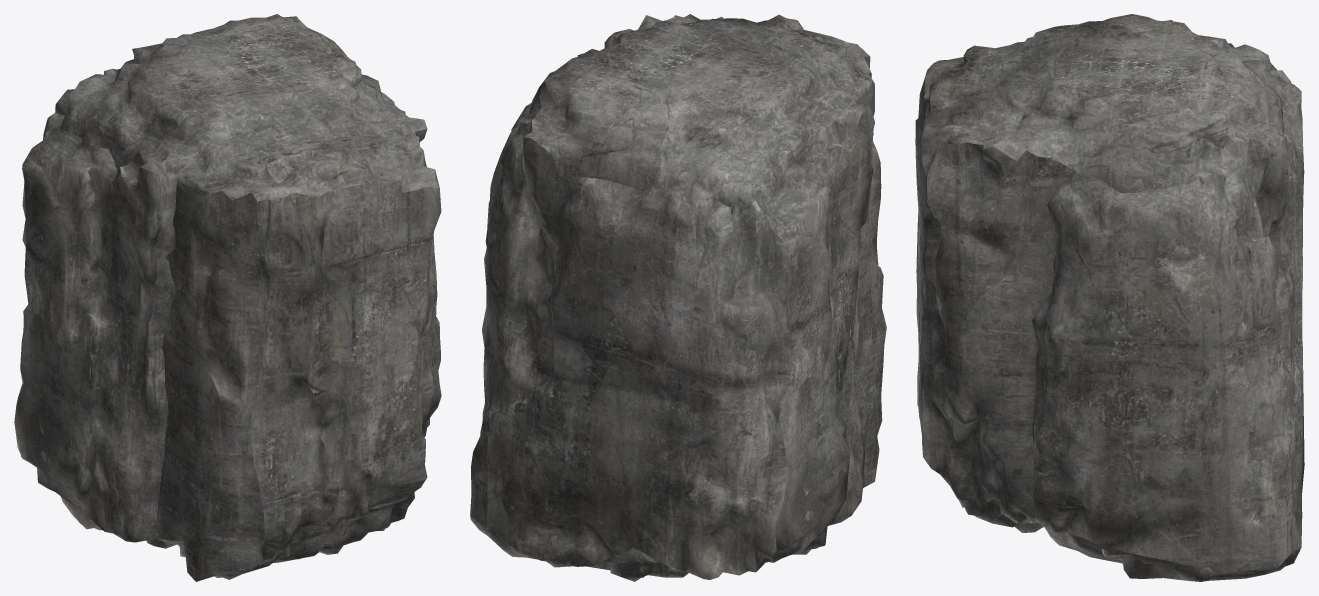
Rendered from rochedo.glb.
3 renders of one model, left to right at view 1: azimuth 30°, elevation 25°; view 2: azimuth 150°, elevation 25°; view 3: azimuth 270°, elevation 25°, orthographic.
Parts seen in each view (by area): view 1: models\props\large_cliff_rock_1.vmdl_c.large_cliff_rock_1; view 2: models\props\large_cliff_rock_1.vmdl_c.large_cliff_rock_1; view 3: models\props\large_cliff_rock_1.vmdl_c.large_cliff_rock_1.
Boxes of the visible parts, x1,y1,x2,y2 form: models\props\large_cliff_rock_1.vmdl_c.large_cliff_rock_1: [14, 14, 441, 581]; models\props\large_cliff_rock_1.vmdl_c.large_cliff_rock_1: [470, 14, 886, 581]; models\props\large_cliff_rock_1.vmdl_c.large_cliff_rock_1: [915, 14, 1304, 581].
Bounding box in the file's own units: 2.33 × 3.18 × 2.43.
1 material, 1 textured.
